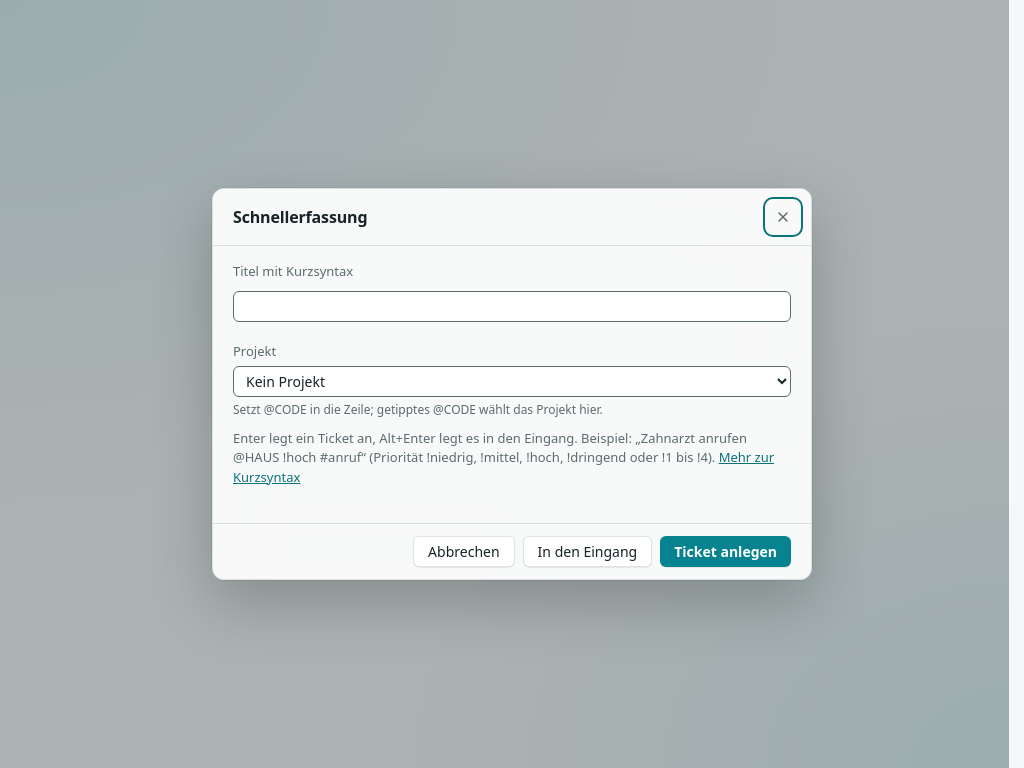
Test case: quick capture › refuses an empty title and shows failures of the save
Type "@HAUS !1" into the field labelled "Titel mit Kurzsyntax" at (512, 307), box top-left (233, 291), bottom-right (791, 322)
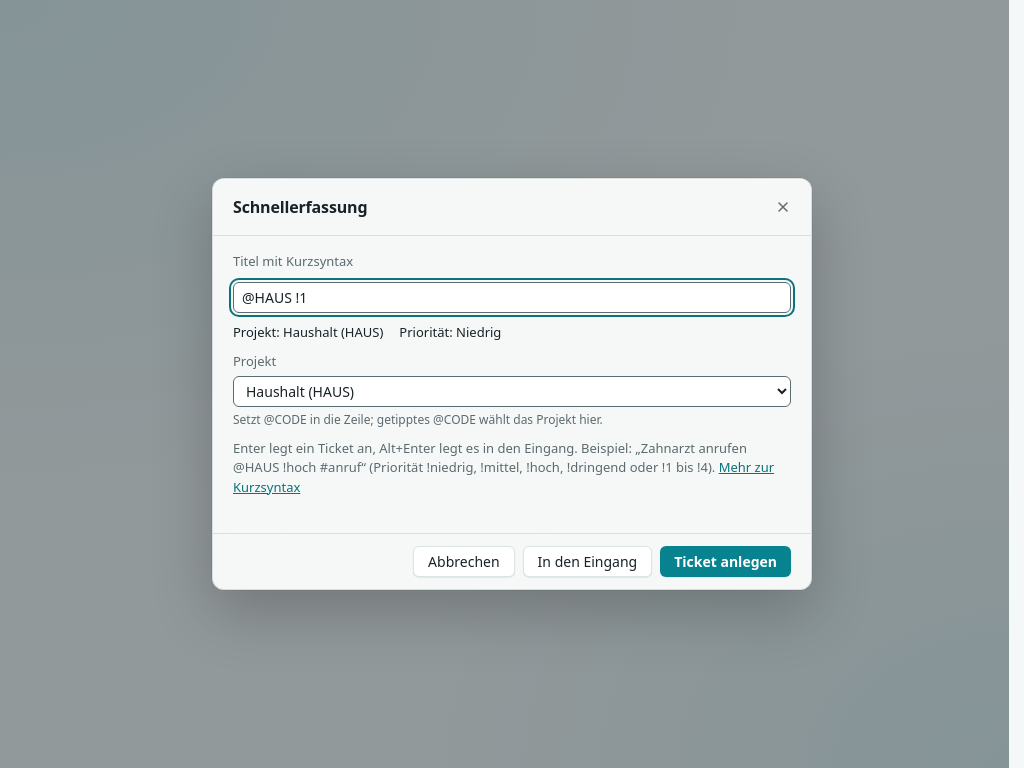
Press Enter in the field labelled "Titel mit Kurzsyntax", box top-left (233, 282), bottom-right (791, 312)
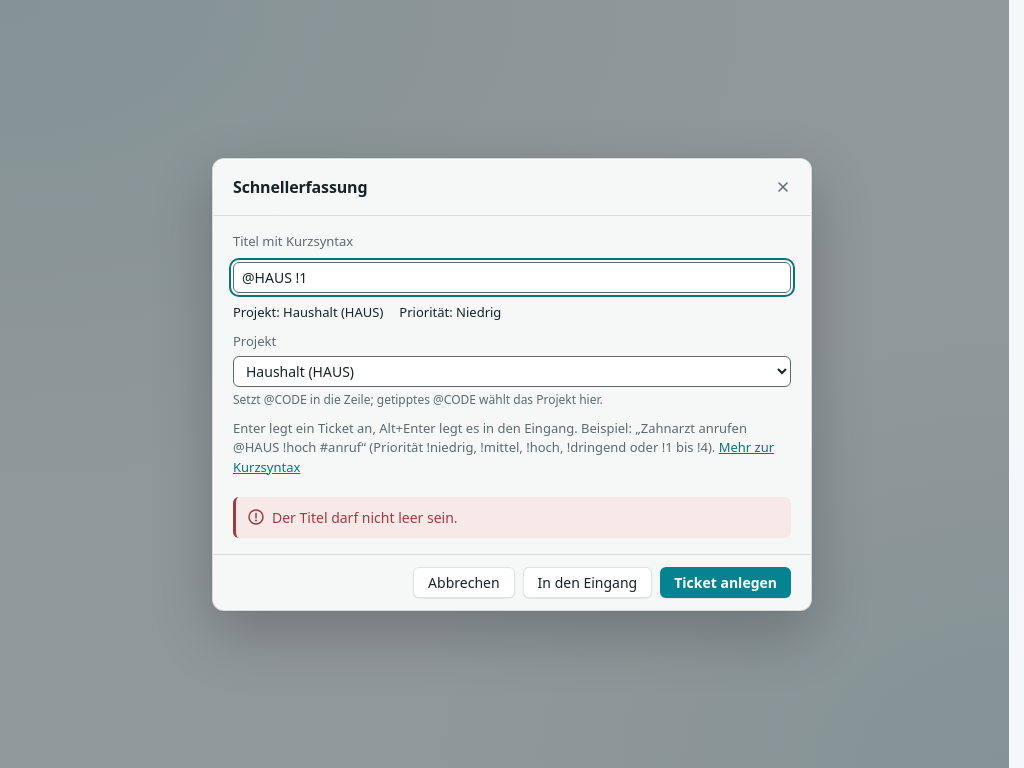
Expected: the icon next to "Der Titel darf nicht leer sein." is shown, top-left (248, 508), bottom-right (264, 524)
Replace the text in the field labelled "Titel mit Kurzsyntax" with "A" at (512, 276), box top-left (233, 261), bottom-right (791, 292)
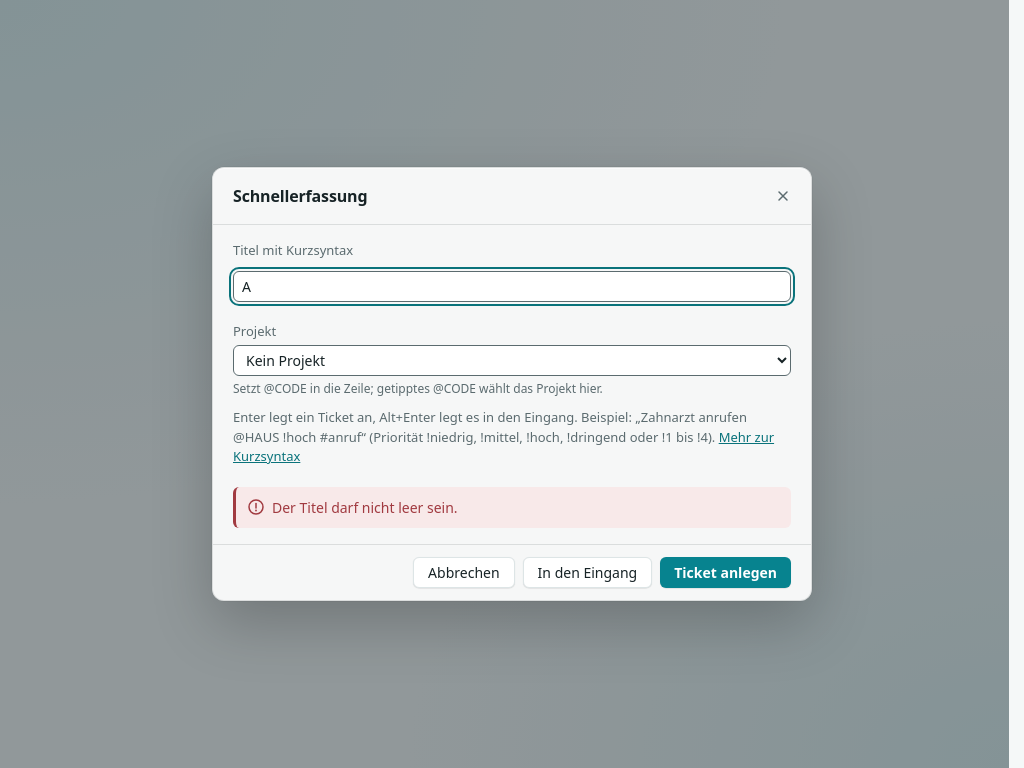
Click the button "Ticket anlegen" at (726, 572), box top-left (660, 557), bottom-right (791, 588)
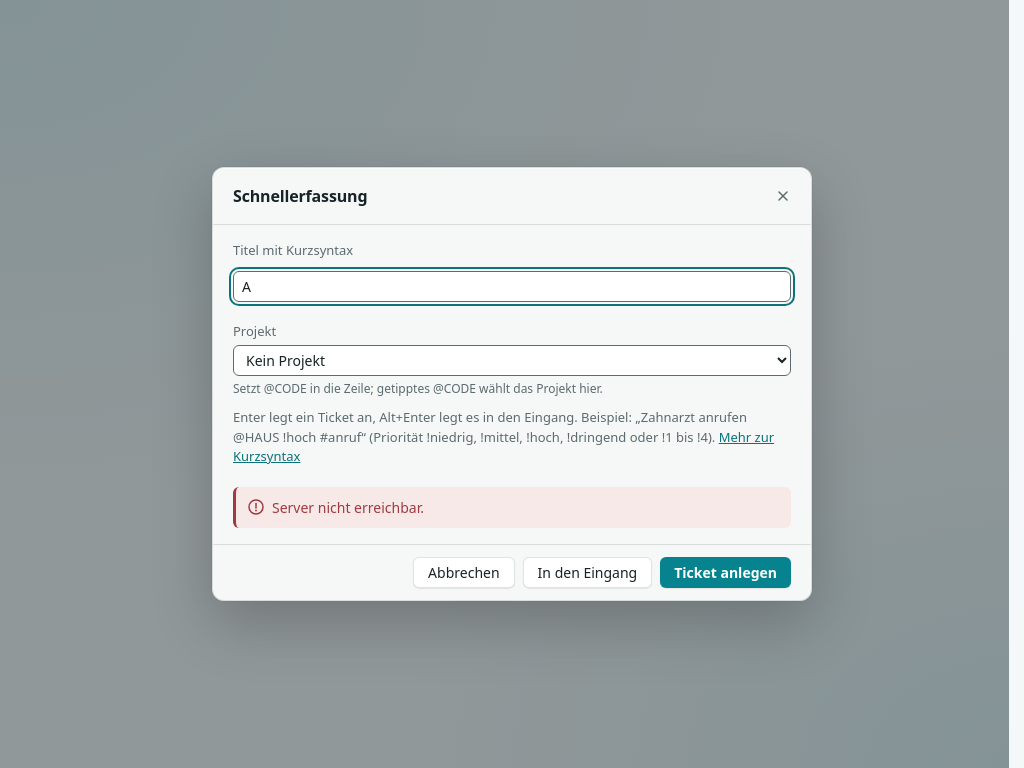
Expected: the text "Server nicht erreichbar." is shown, top-left (272, 497), bottom-right (424, 518)
